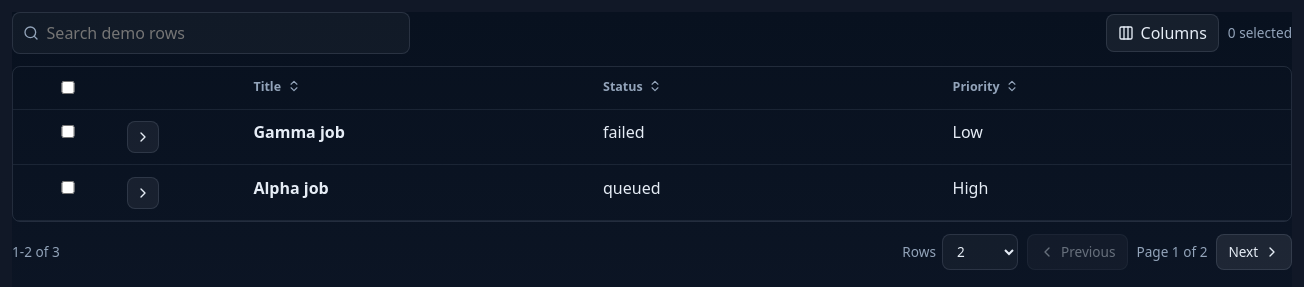
ConsoleTable › filters, sorts, paginates, and toggles column visibility
The image size is (1304, 287).
Check: the text "Gamma job" is shown, box [253,121,345,143]
Check: the text "Alpha job" is shown, box [253,176,329,198]
Click the button "Next" at (1254, 252), box [1216,234,1292,270]
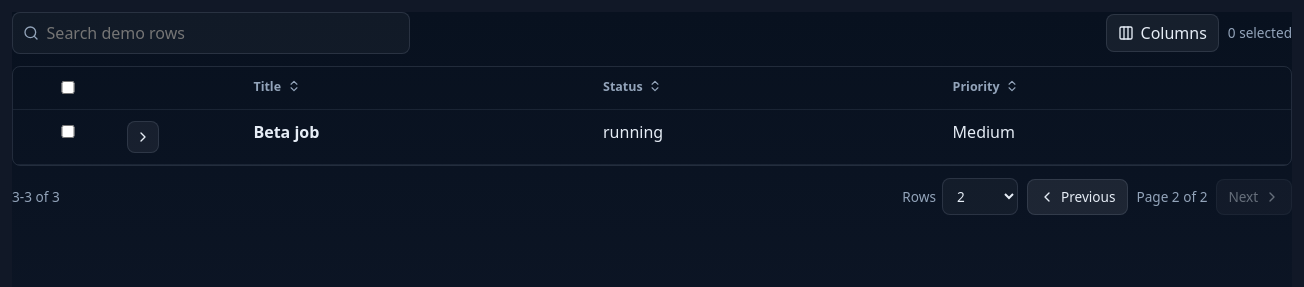
Check: the text "Beta job" is shown, box [253,121,319,143]
Check: the text "3-3 of 3" is shown, box [12,187,60,206]
Type "alpha" into the search field named "Search table" at (223, 33), box [47,13,399,53]
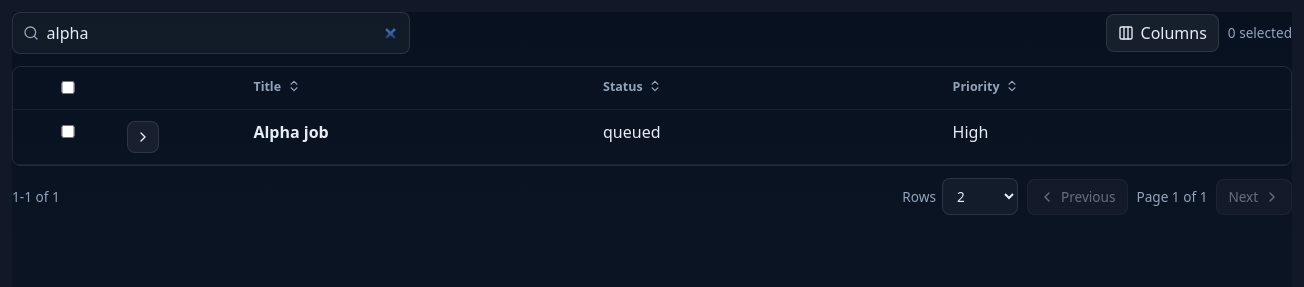
Check: the text "Gamma job" is not shown
Check: the text "Alpha job" is shown, box [253,121,329,143]
Clear the search field named "Search table" at (223, 33), box [47,13,399,53]
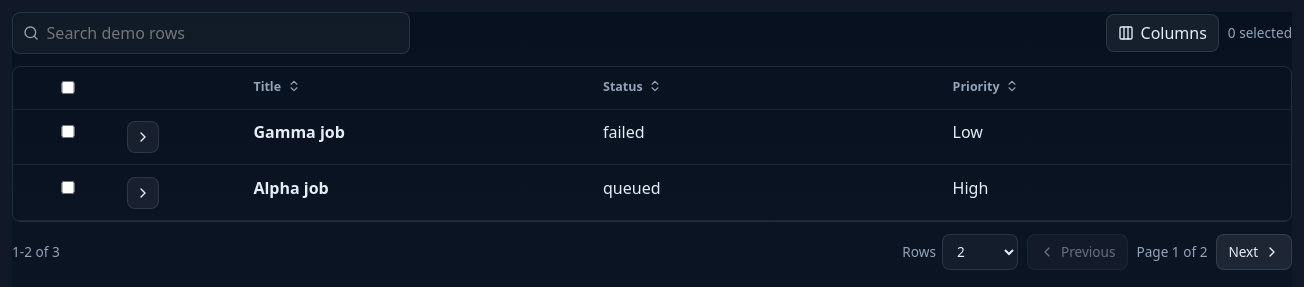
Click the button "Title" at (277, 86), box [253,78,301,95]
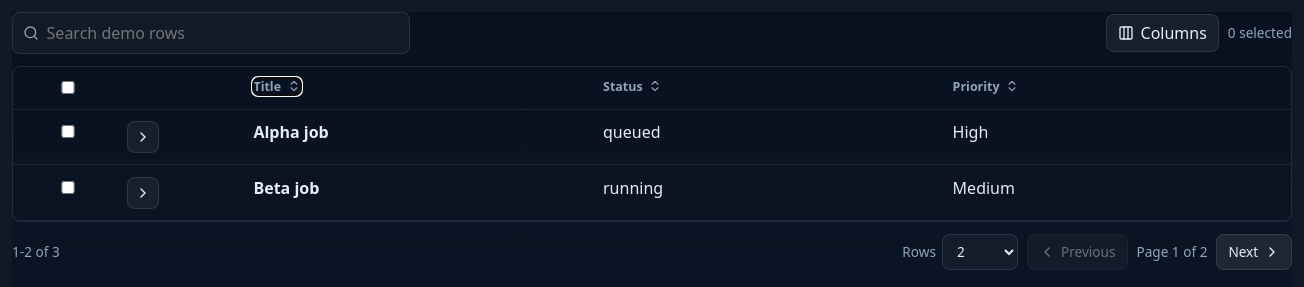
Check: the row "Alpha job queued High" is shown, box [13,110,1291,165]
Check: the row "Beta job running Medium" is shown, box [13,165,1291,220]
Click the heading "Columns" at (1163, 33), box [1106,14,1219,52]
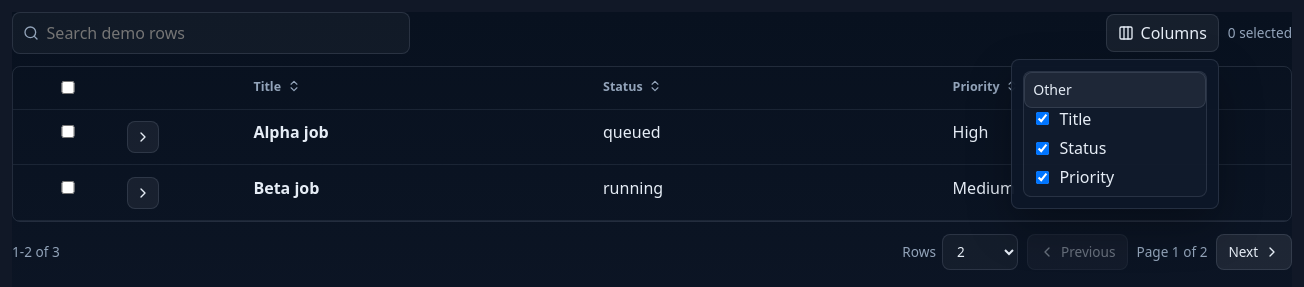
Click the checkbox labelled "Status" at (1043, 148), box [1036,142,1049,155]
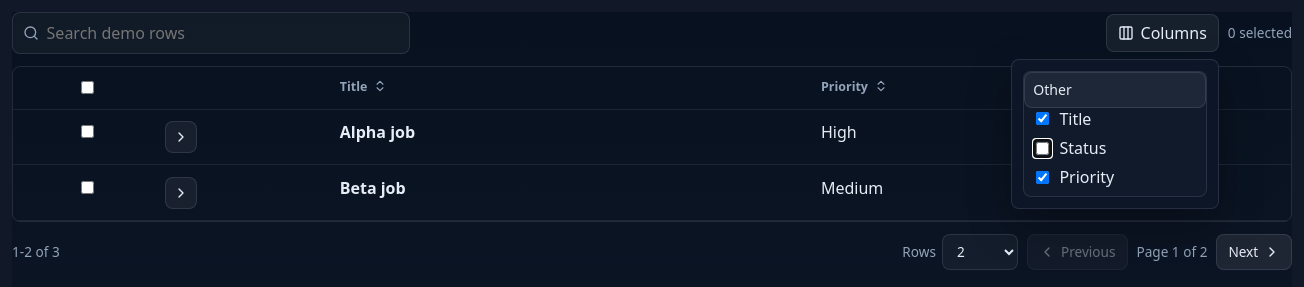
Check: the text "queued" is gone
